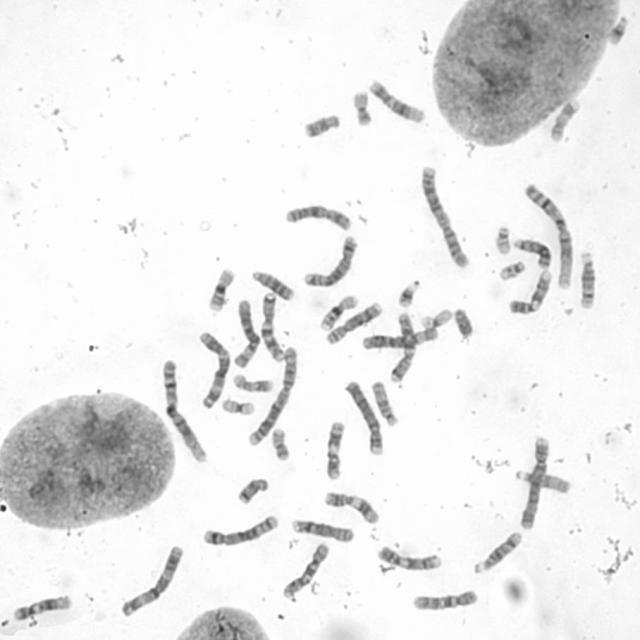A1: (524, 182, 576, 291), (161, 359, 211, 464)
A2: (418, 162, 472, 270), (247, 346, 299, 448)
A3: (118, 544, 186, 620), (198, 330, 231, 411)
B4: (343, 378, 385, 457), (519, 435, 550, 531)
B5: (303, 235, 360, 288), (202, 513, 282, 548)
C10: (282, 542, 330, 598), (412, 589, 479, 612)
C11: (322, 489, 381, 524), (324, 419, 348, 480)
C12: (367, 78, 427, 125), (12, 594, 75, 623)
C6: (359, 326, 439, 353), (232, 298, 261, 368)
C7: (389, 310, 417, 386), (260, 291, 286, 363)
C8: (324, 301, 384, 346), (290, 518, 356, 544)
C9: (508, 269, 553, 316), (376, 545, 443, 572)
D13: (251, 269, 296, 302), (508, 237, 551, 270)
D14: (471, 531, 525, 575), (580, 248, 596, 310)
D15: (514, 469, 572, 495), (372, 379, 401, 429)
E16: (318, 292, 359, 334), (207, 266, 236, 314)
E17: (547, 94, 581, 144), (233, 372, 274, 393)
E18: (303, 113, 342, 140), (236, 477, 271, 506)
F19: (420, 307, 453, 331), (220, 396, 256, 417)
F20: (271, 426, 292, 462), (351, 89, 372, 125)
G21: (603, 13, 630, 48), (396, 278, 421, 309)
G22: (498, 259, 525, 282), (495, 225, 514, 255)
X: (284, 202, 351, 232)
Y: (452, 305, 474, 340)
